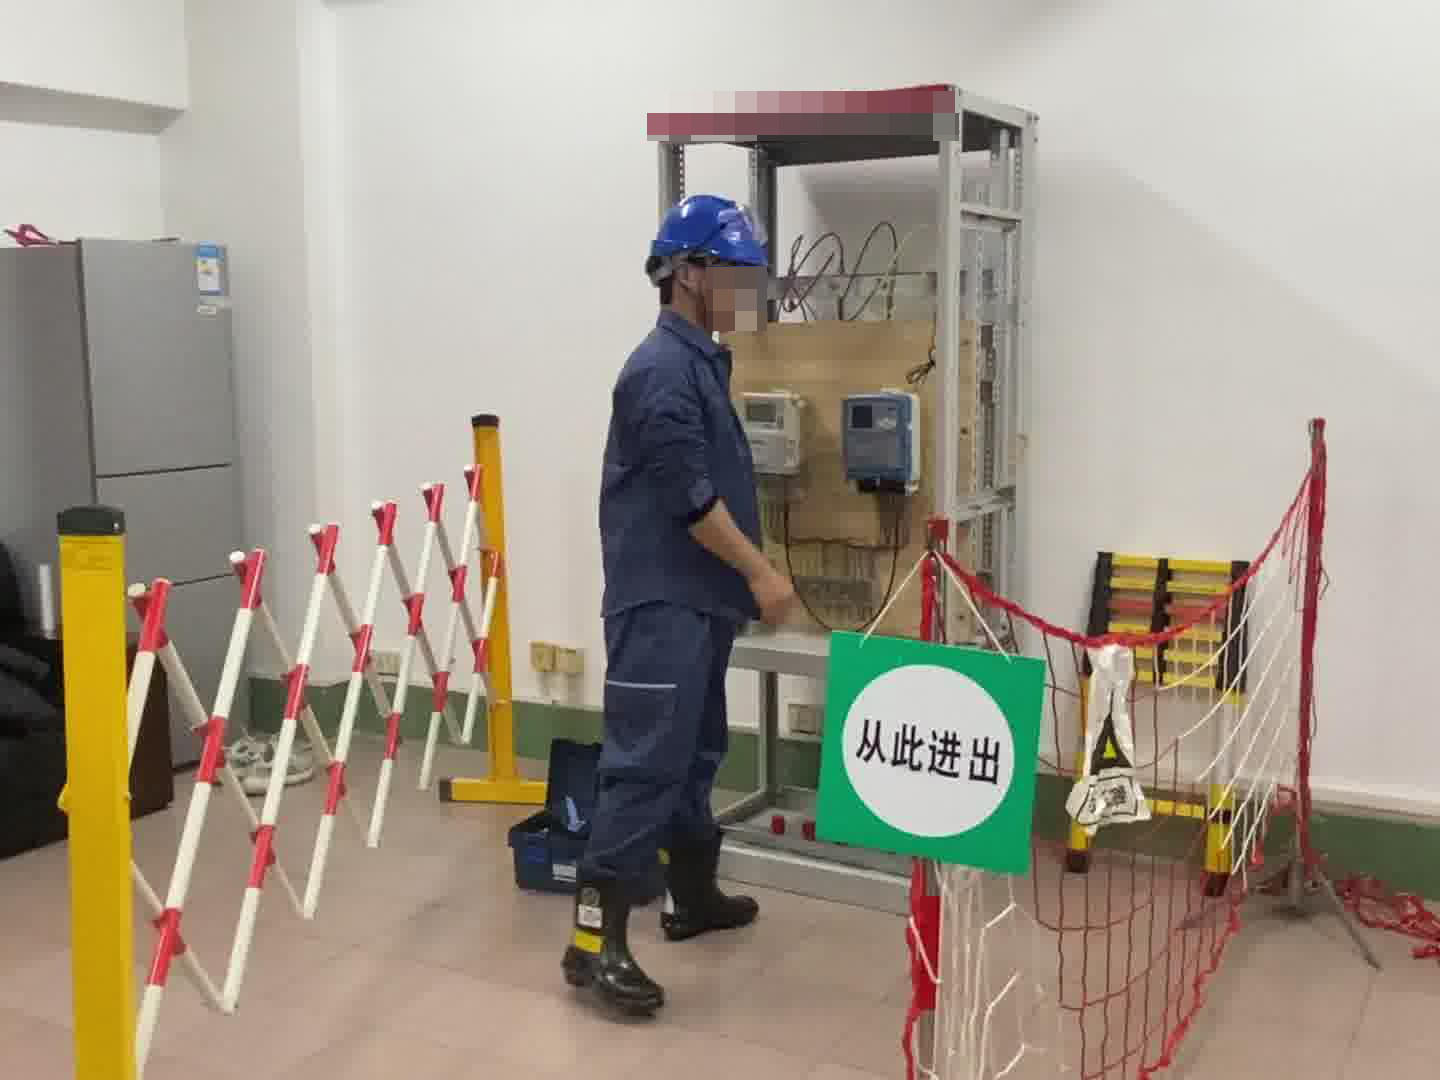downsuit: (568, 609, 742, 899)
halt: (644, 192, 774, 331)
hand: (753, 572, 797, 627)
inear: (673, 259, 717, 305)
intosign: (828, 629, 1037, 877)
person: (540, 189, 801, 964)
shoe: (561, 879, 666, 1012), (656, 826, 761, 940)
upsuit: (595, 314, 772, 614)
wrongtop: (695, 508, 800, 633)
